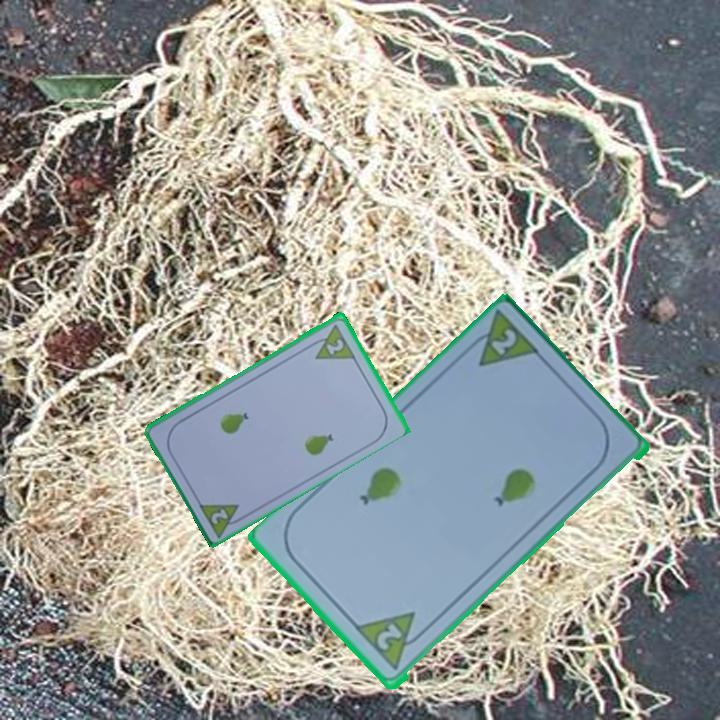2p: (460, 308, 544, 371), (195, 498, 249, 539), (372, 620, 405, 654), (323, 334, 347, 357)
